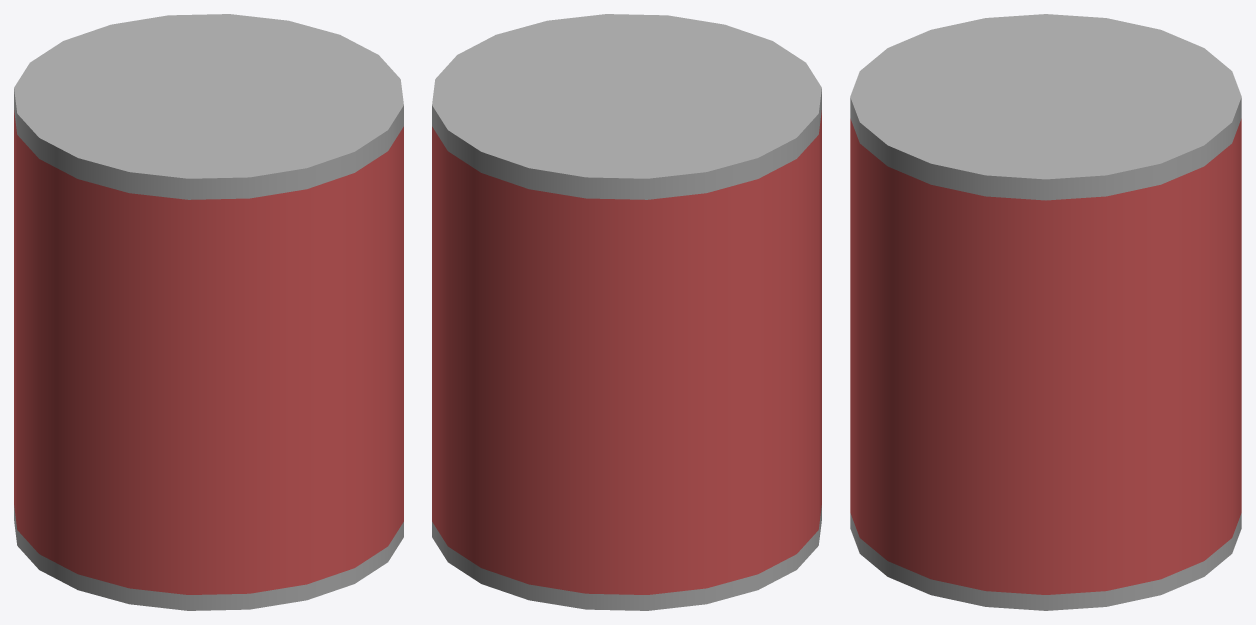
Rendered from MoveableCannedGood01.fbx.
3 renders of one model, left to right at view 1: azimuth 30°, elevation 25°; view 2: azimuth 150°, elevation 25°; view 3: azimuth 270°, elevation 25°, orthographic.
Parts seen in each view (by area): view 1: pCylinder3; view 2: pCylinder3; view 3: pCylinder3.
Boxes of the visible parts, x1=… form: pCylinder3: x1=14, y1=14, x2=403, y2=610; pCylinder3: x1=432, y1=14, x2=821, y2=610; pCylinder3: x1=850, y1=14, x2=1241, y2=610.
Bounding box in the file's own units: 6.79 × 8.26 × 6.79.
